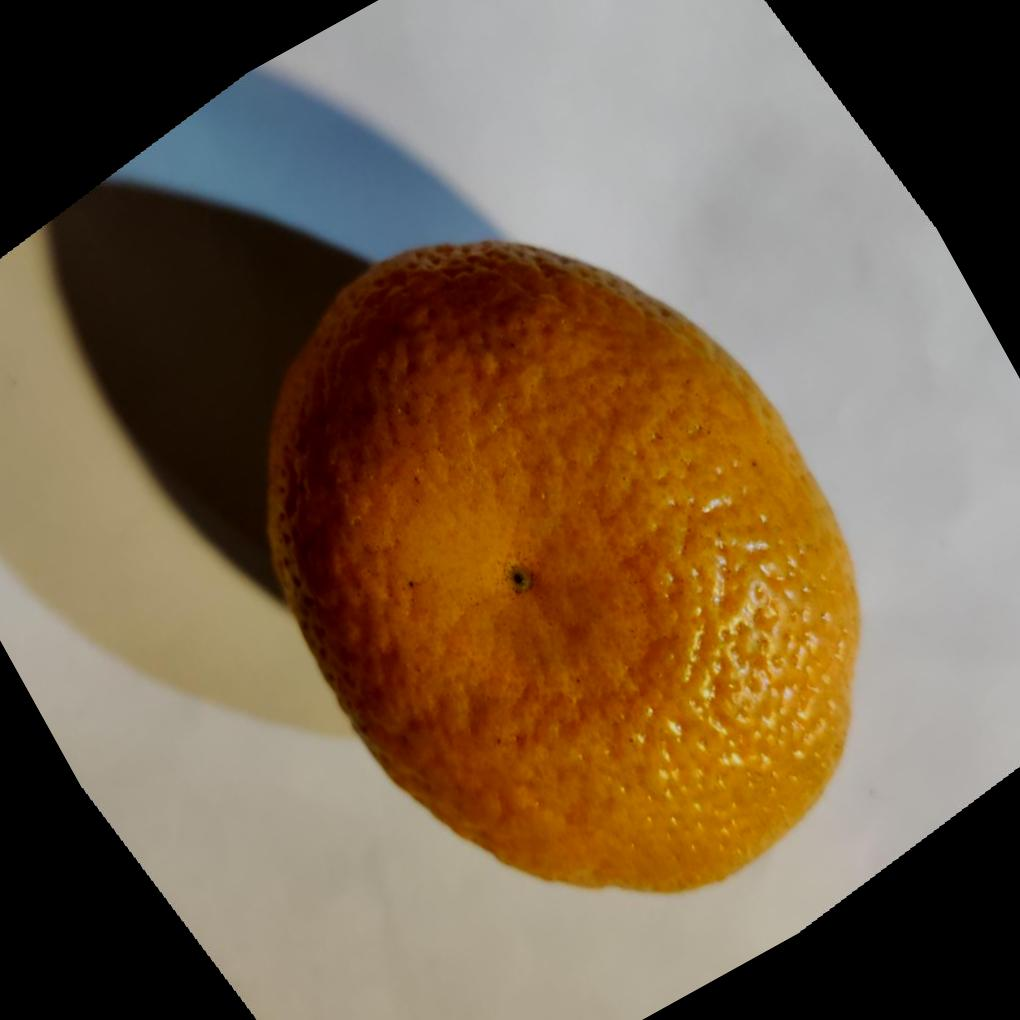FreshGuava: (259, 239, 861, 898)
